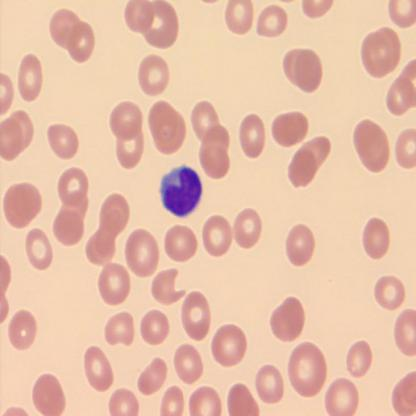Lymphocyte: (159, 165, 203, 217)
